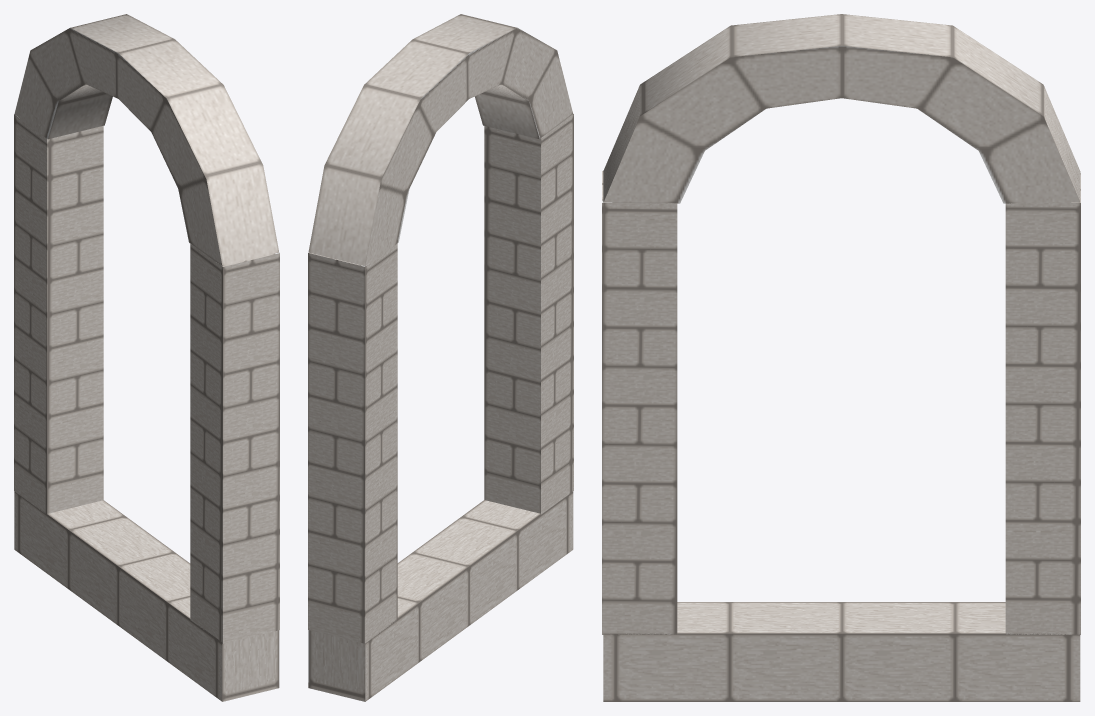
Rendered from goal.fbx.
3 renders of one model, left to right at view 1: azimuth 30°, elevation 25°; view 2: azimuth 150°, elevation 25°; view 3: azimuth 270°, elevation 25°, orthographic. The views are drawn at different scales.
Parts seen in each view (by area): view 1: pCube5; view 2: pCube5; view 3: pCube5.
Boxes of the visible parts, x1,y1,x2,y2 form: pCube5: (14, 14, 279, 701); pCube5: (308, 14, 573, 701); pCube5: (602, 14, 1080, 701).
Bounding box in the file's own units: 1.54 × 14.79 × 9.78.
